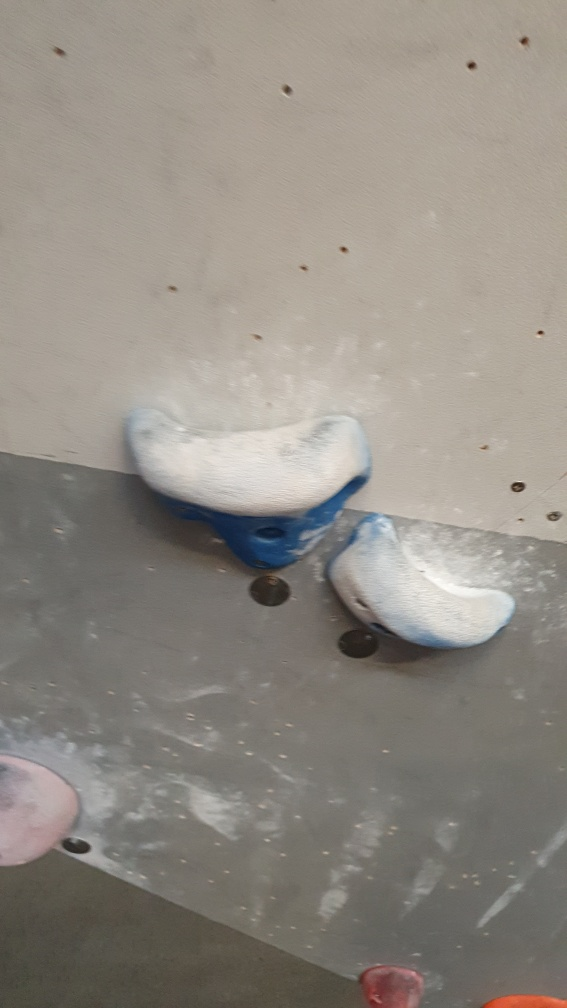Hand Start: (333, 617, 390, 670), (244, 570, 298, 610), (58, 829, 99, 863)
Jug: (120, 400, 368, 568), (327, 516, 514, 660)
Sloper: (1, 746, 97, 875), (358, 960, 425, 1008)
